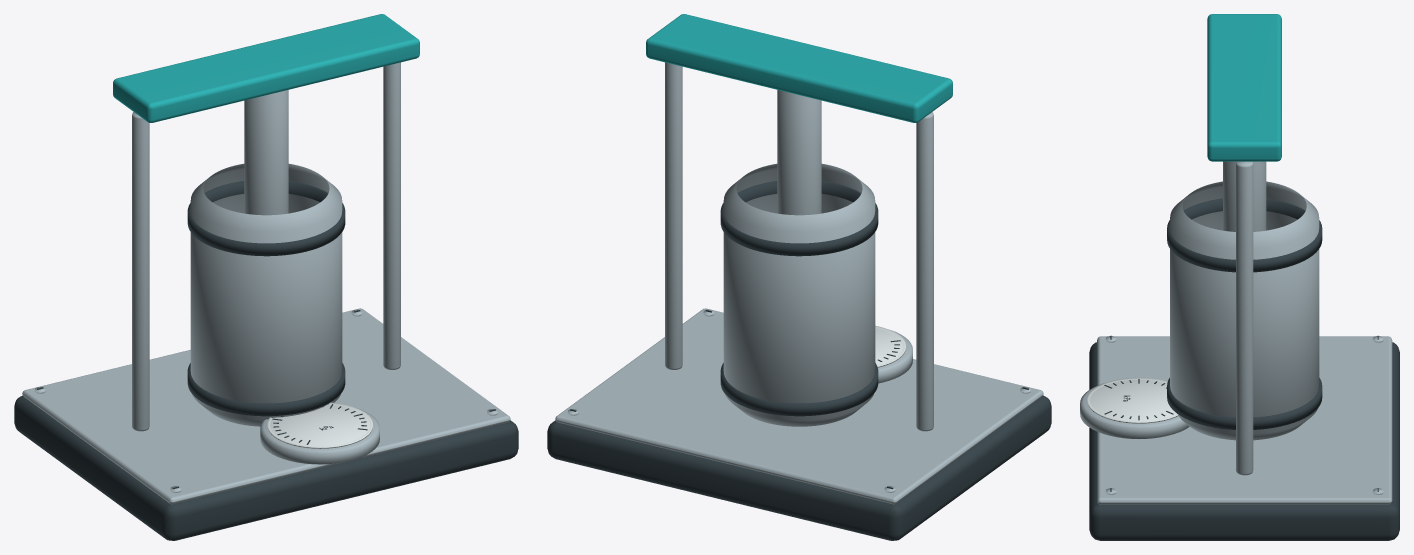
File: actuator.glb
3 views of the same model, side by side, from view 1: azimuth 30°, elevation 25°; view 2: azimuth 150°, elevation 25°; view 3: azimuth 270°, elevation 25° (orthographic).
Visible parts, largest first — view 1: Satin upper panel, Pneumatic actuator, Machined plinth, actuatorHead, Precision guide, Precision guide.001, actuatorRod, Gauge dial, Actuator band.001, Actuator band, Gauge bezel; view 2: Satin upper panel, Pneumatic actuator, Machined plinth, actuatorHead, Precision guide, Precision guide.001, actuatorRod, Actuator band.001, Actuator band, Gauge dial, Gauge bezel; view 3: Satin upper panel, Pneumatic actuator, Machined plinth, actuatorHead, Precision guide.001, Gauge dial, Actuator band.001, Actuator band, actuatorRod, Gauge bezel.
Boxes of the visible parts, x1,y1,x2,y2 form: Satin upper panel: (22, 308, 510, 504); Pneumatic actuator: (190, 163, 342, 426); Machined plinth: (14, 395, 518, 540); actuatorHead: (113, 14, 419, 122); Precision guide: (132, 112, 149, 431); Precision guide.001: (383, 62, 400, 369); actuatorRod: (244, 90, 288, 215); Gauge dial: (267, 402, 372, 448); Actuator band.001: (187, 181, 345, 256); Actuator band: (187, 363, 345, 416); Gauge bezel: (260, 408, 379, 464); Satin upper panel: (555, 308, 1043, 504); Pneumatic actuator: (723, 163, 875, 426); Machined plinth: (547, 395, 1051, 540); actuatorHead: (646, 14, 952, 122); Precision guide: (916, 112, 933, 431); Precision guide.001: (665, 62, 682, 369); actuatorRod: (777, 90, 821, 215); Actuator band.001: (720, 181, 878, 256); Actuator band: (720, 363, 878, 416); Gauge dial: (875, 325, 905, 367); Gauge bezel: (878, 330, 912, 383); Satin upper panel: (1097, 336, 1392, 504); Pneumatic actuator: (1170, 181, 1319, 440); Machined plinth: (1089, 342, 1399, 540); actuatorHead: (1207, 14, 1281, 161); Precision guide.001: (1236, 161, 1253, 475); Gauge dial: (1087, 377, 1178, 423); Actuator band.001: (1167, 198, 1322, 272); Actuator band: (1167, 378, 1322, 429); actuatorRod: (1223, 161, 1266, 231); Gauge bezel: (1080, 383, 1189, 439).
Bounding box in the file's own units: 0.65 × 0.6795 × 0.515.
